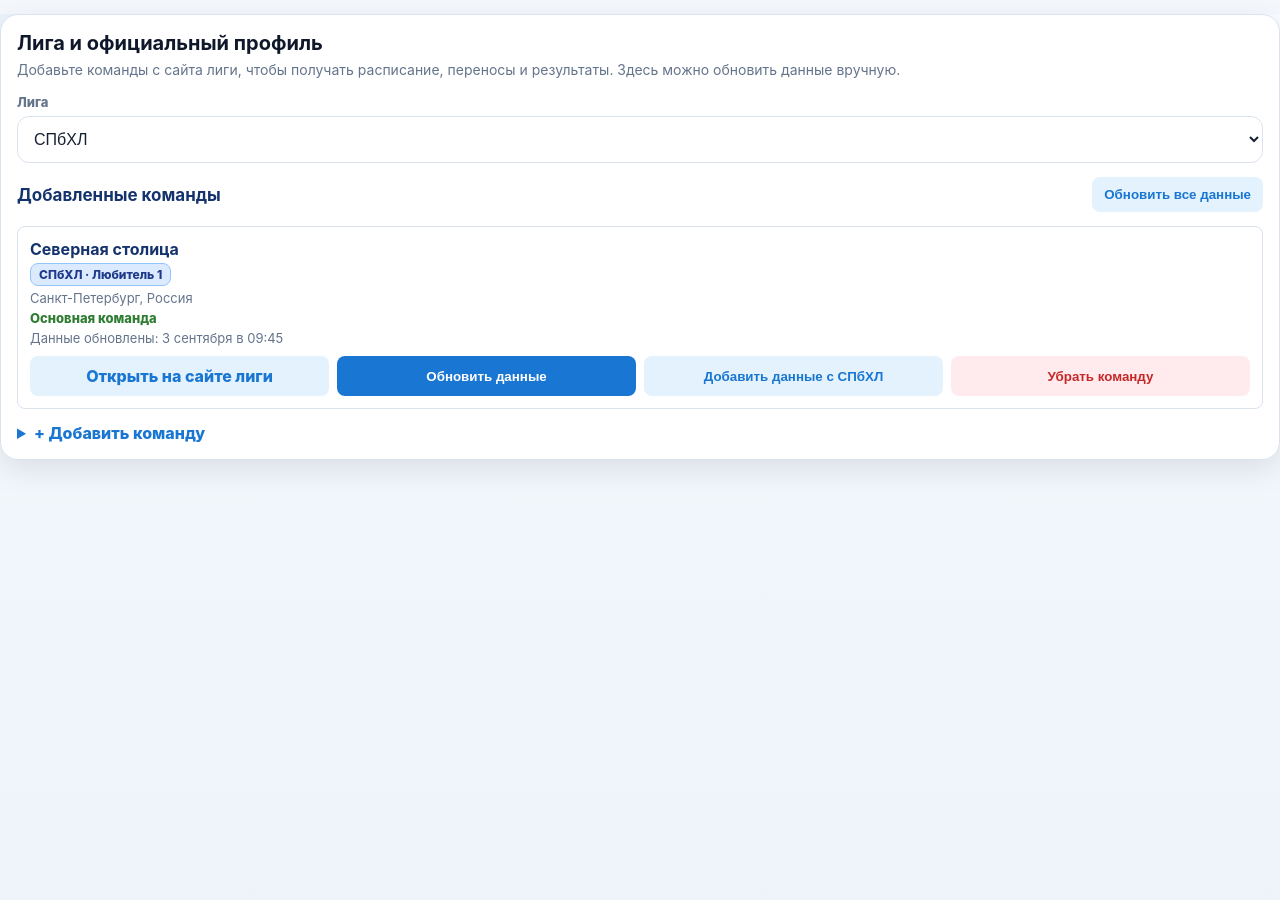
Test case: hides the cover choice when the league has no cover
Click the button "Добавить данные с СПбХЛ".
click(794, 376)  # box [644,356,943,396]
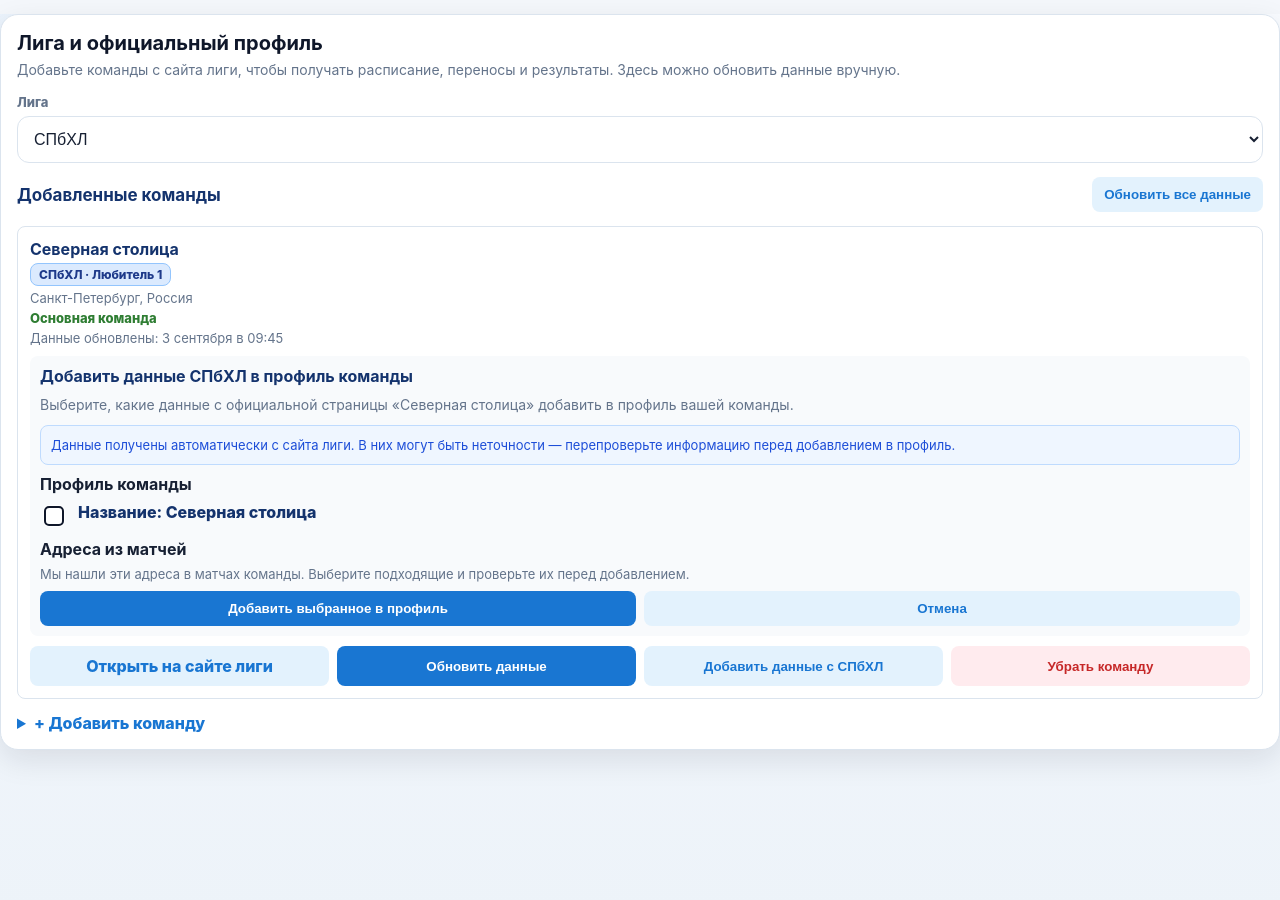
Expected: the text "Добавить данные СПбХЛ в профиль команды" is shown, [40,366,413,386]
Expected: the text "Выберите, какие данные с официальной страницы «Северная столица» добавить в профиль вашей команды." is shown, [40,396,794,413]
Expected: the text "Данные получены автоматически с сайта лиги" is shown, [51,437,955,453]
